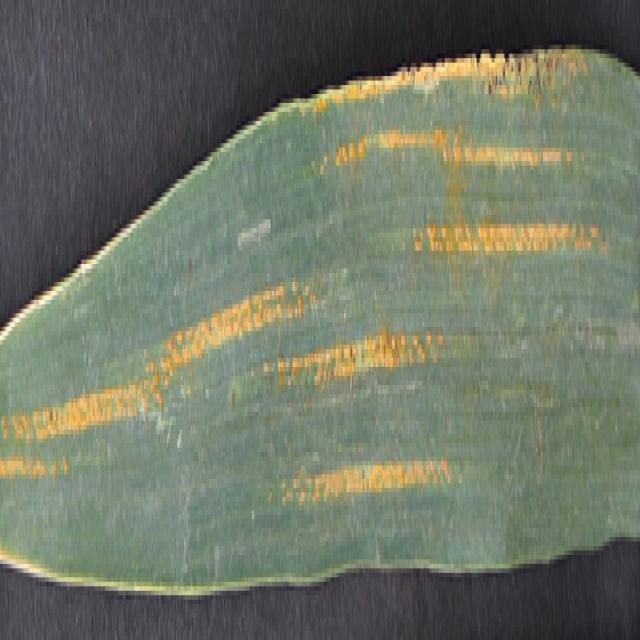leaf rust: (1, 90, 613, 550)
